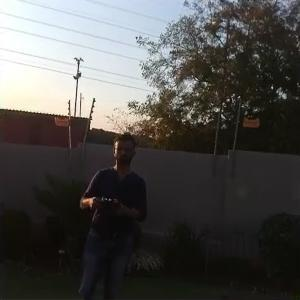follow: (71, 128, 151, 298)
